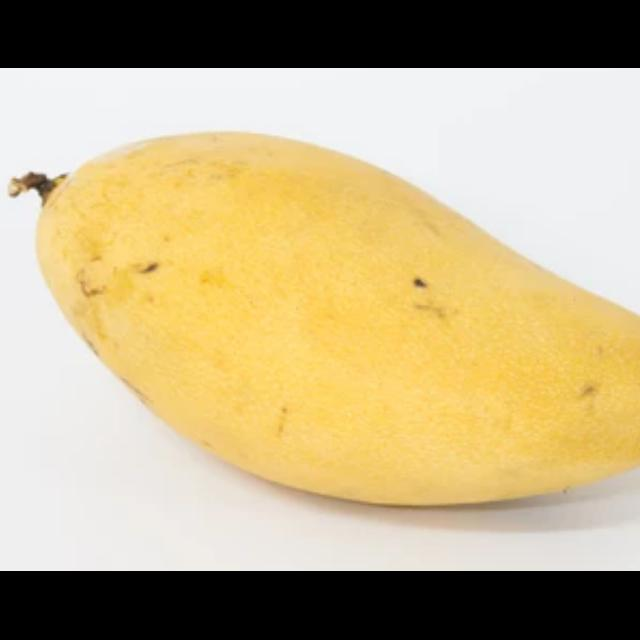mango: (34, 127, 640, 506)
